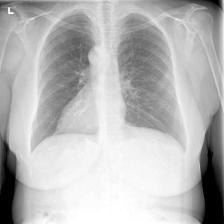normal: (29, 5, 190, 158)
